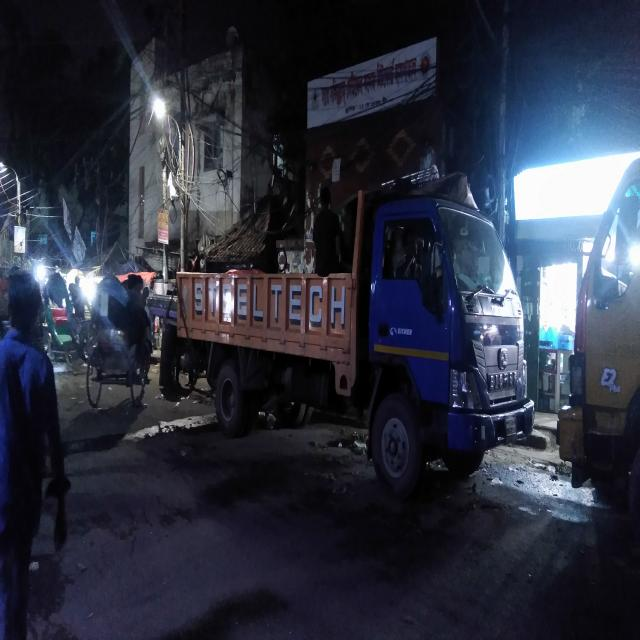truck: (160, 174, 531, 497), (552, 156, 640, 504)
